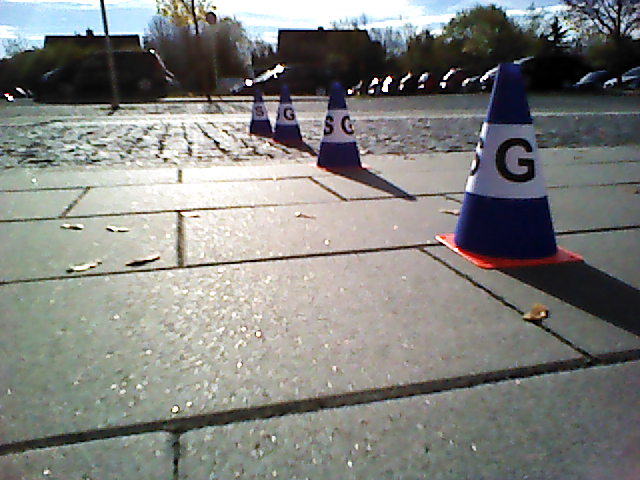bluecone: (457, 64, 557, 252), (317, 82, 358, 167), (275, 85, 301, 140), (248, 91, 276, 135)
